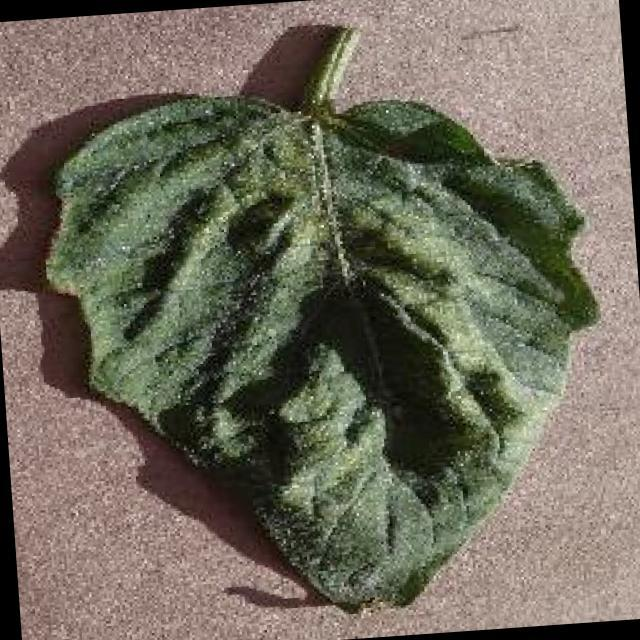Tomato spider mites leaf: (34, 66, 620, 636)
